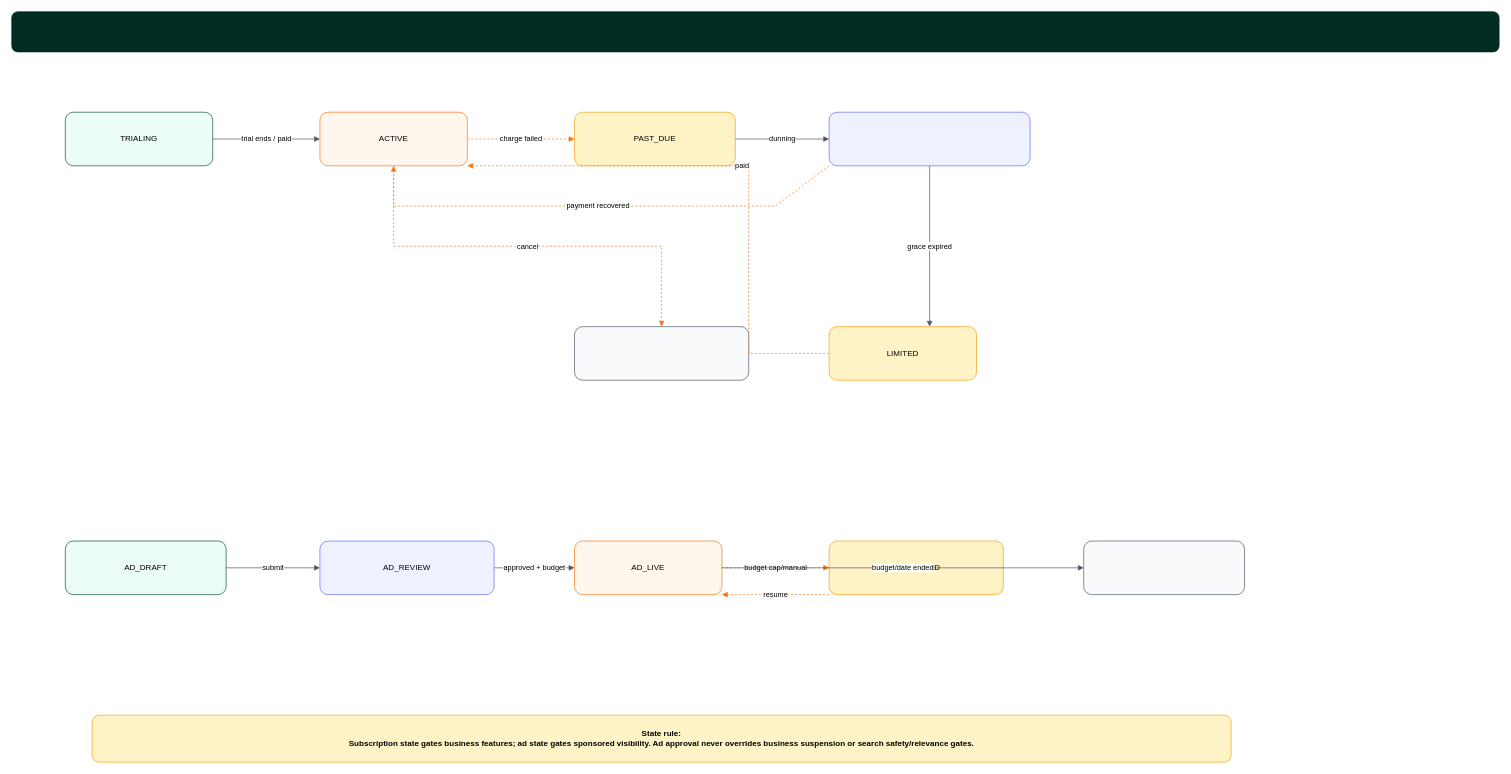
Image size: 1511x774. Some labels were removed from this diagram. The centre of each missing label's shape, as x and y in pixels:
AD_ENDED: the point at 1164,567
CANCELLED: the point at 661,353
GRACE_PERIOD: the point at 929,139
Viaverse Subscription / Sponsored Placement — State Diagram: the point at 755,31
